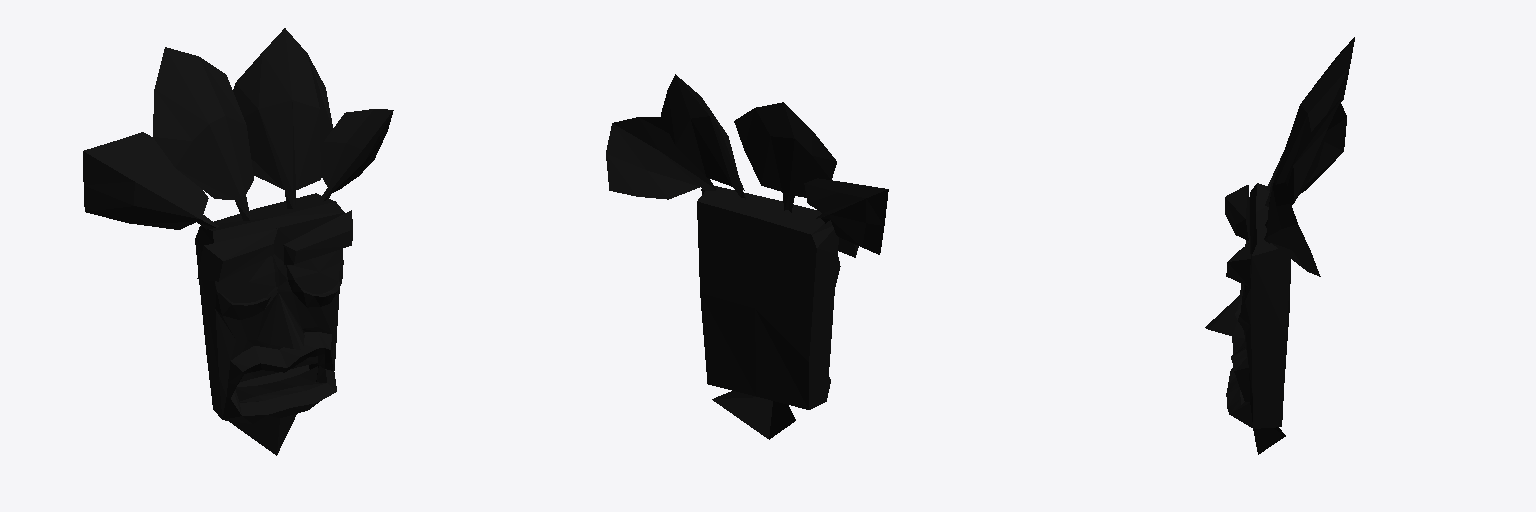
The model's file is AkuAku.obj.
3 renders of one model, left to right at view 1: azimuth 30°, elevation 25°; view 2: azimuth 150°, elevation 25°; view 3: azimuth 270°, elevation 25°, orthographic.
Visible parts, largest first — view 1: DrawCall_43, DrawCall_42; view 2: DrawCall_42, DrawCall_43; view 3: DrawCall_42, DrawCall_43.
Part boxes in pixels (x1,y1,x2,y2): DrawCall_43: (83,28,393,455); DrawCall_42: (195,193,352,423); DrawCall_42: (697,186,858,409); DrawCall_43: (606,74,888,439); DrawCall_42: (1205,183,1290,428); DrawCall_43: (1253,37,1354,454).
Bounding box in the file's own units: 26.97 × 34.07 × 12.01.